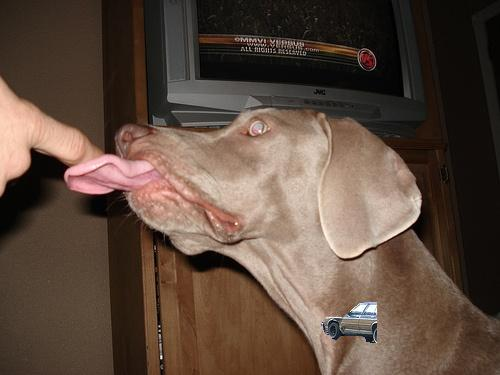tampered: (322, 303, 377, 343)
